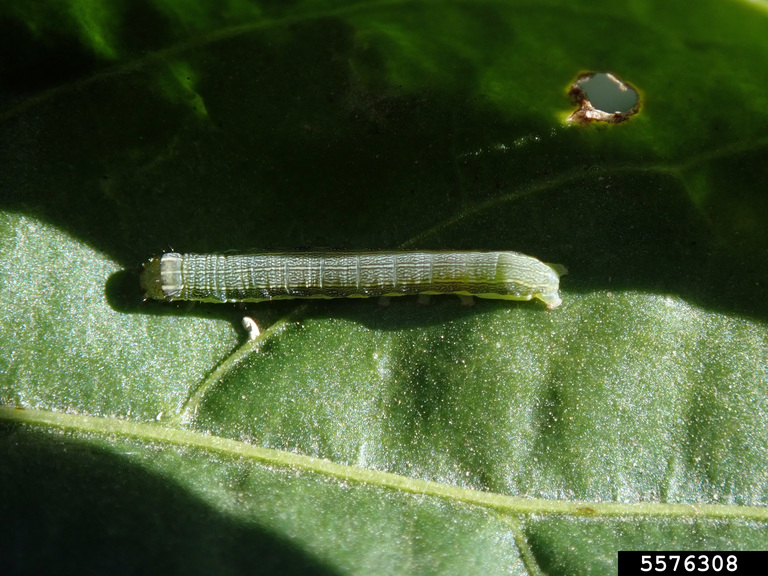Armyworm: (126, 236, 580, 311)
